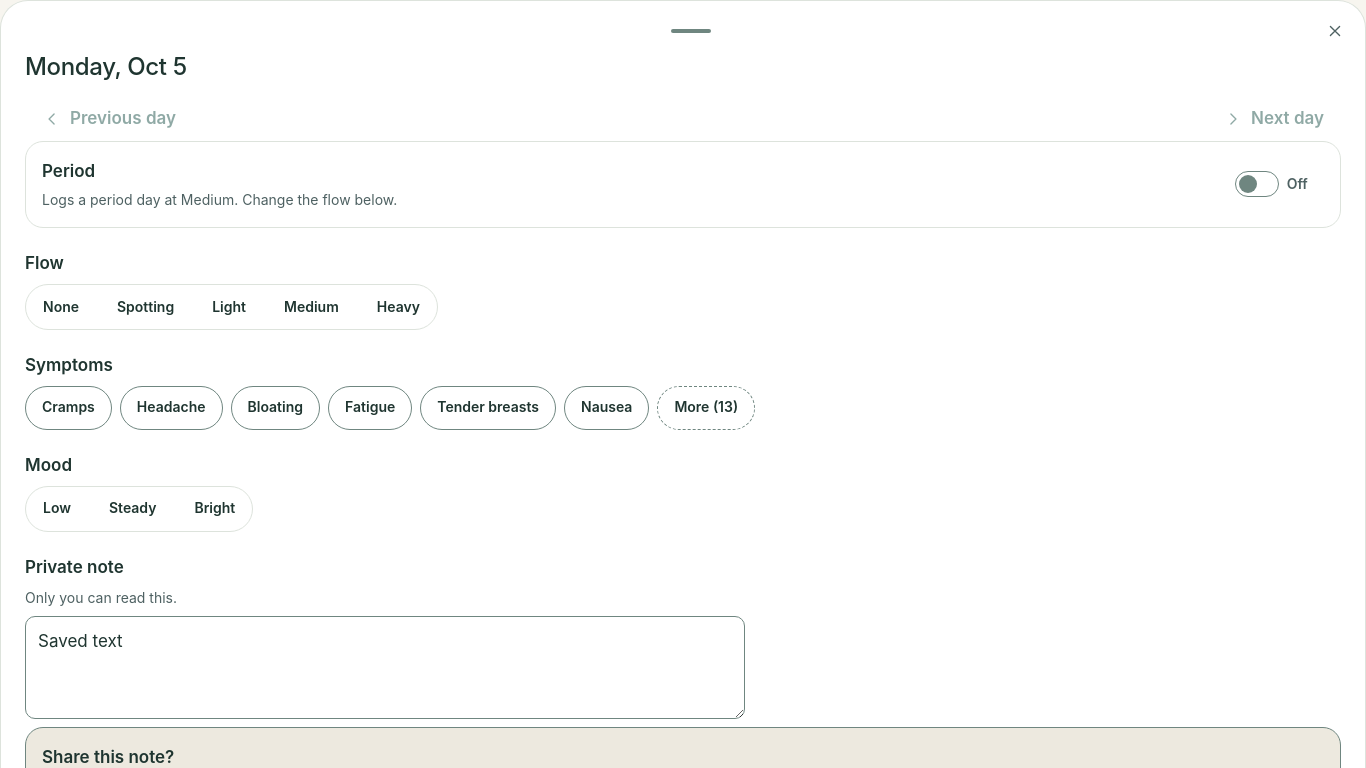
Test: DaySheet: notes already shared and the share action › will not share text that differs from what is saved, even from the confirm step
The width and height of the screenshot is (1366, 768).
Type " and more" into the text box labelled "Private note" at (385, 668), box [25,616,745,719]
(page scrolled)
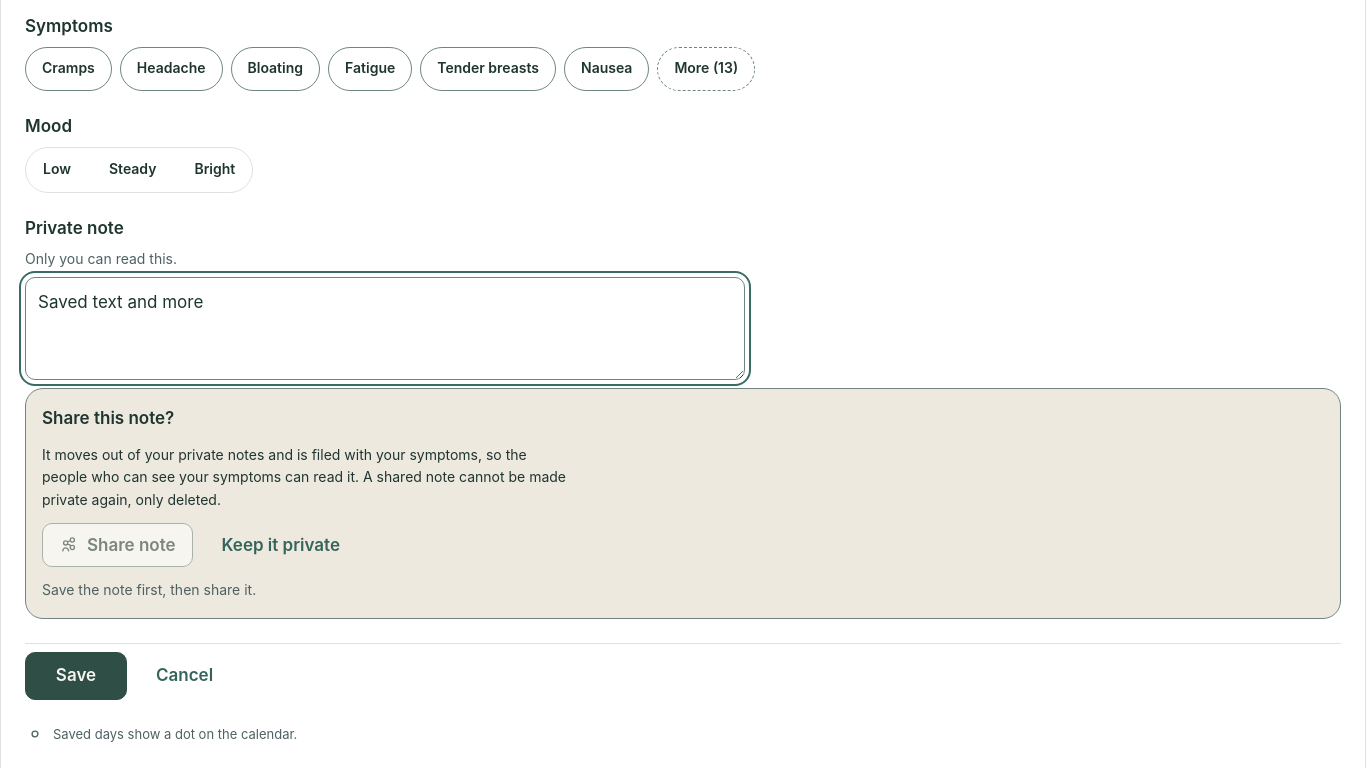
Now the button "Share note" is disabled, box [42,523,193,567]
Now the text "Save the note first, then share it." is shown, box [42,581,256,598]
